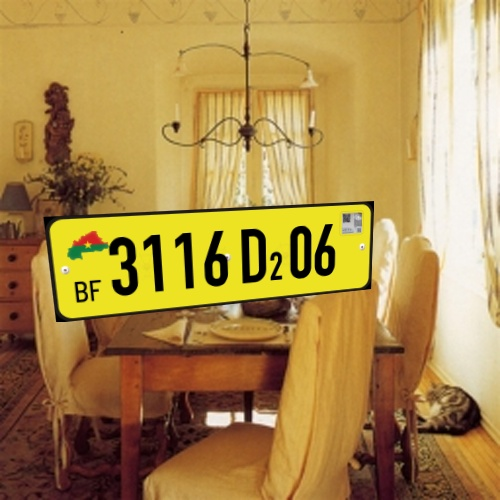plate: (30, 191, 384, 335)
